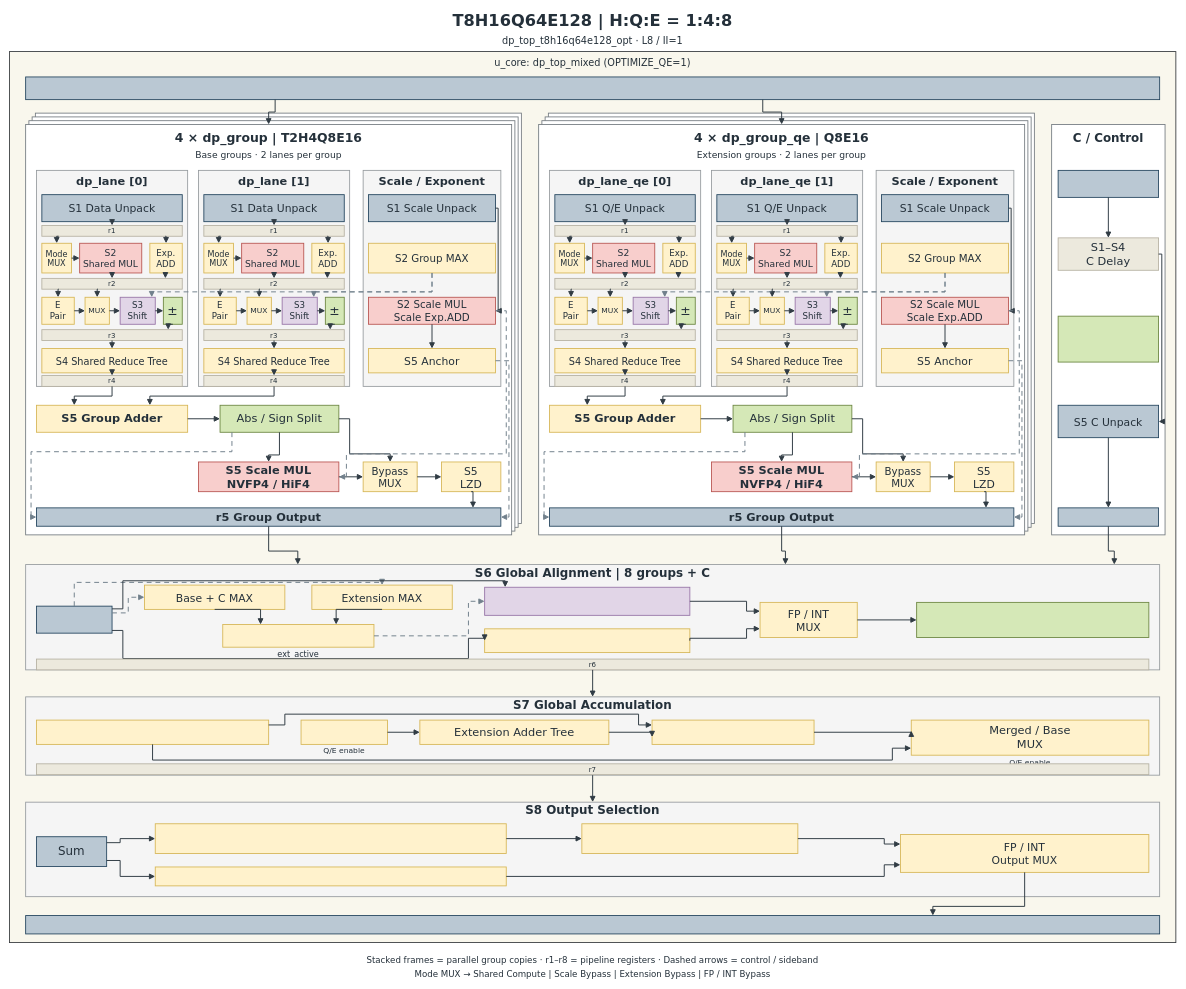
Some shapes in this 1186 by 989 pixel diagram are drawn without their labels. Each missing label, with the centre of its shape:
A / B · Datatype · Scale · HiF4 metadata: the point at 592,88
Base Tree (4 groups + C): the point at 152,732
C input: the point at 1108,184
Ext / 0 MUX: the point at 344,732
FP Bidirectional Shift: the point at 587,601
FP Normalize / Round: the point at 330,838
INT Placement / Base+C: the point at 587,640
INT32 Wrap: the point at 330,876
MAX / Base Bypass: the point at 298,635
Merge ADD: the point at 732,732
Precision Gating Extension Mask: the point at 1108,338
r5 C Output: the point at 1108,516
r8 D / out_valid / out_last: the point at 592,924
Sign Restore: the point at 1032,620
Source Mask / Pack: the point at 74,619
Special MUX: the point at 689,838
